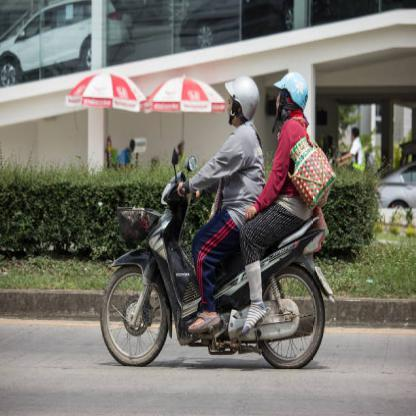Motorcycle: (99, 167, 331, 372)
